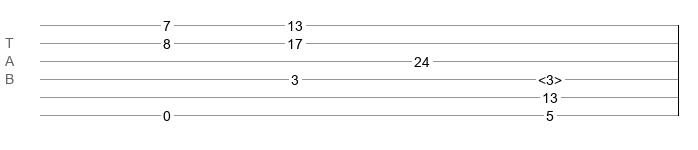0: (163, 108, 171, 118)
13: (287, 18, 303, 28), (542, 90, 558, 100)
17: (287, 36, 303, 46)
24: (414, 54, 430, 64)
3: (291, 72, 299, 82)
5: (546, 108, 554, 118)
7: (163, 18, 171, 28)
8: (163, 36, 171, 46)
harmonic: (538, 72, 562, 82)
